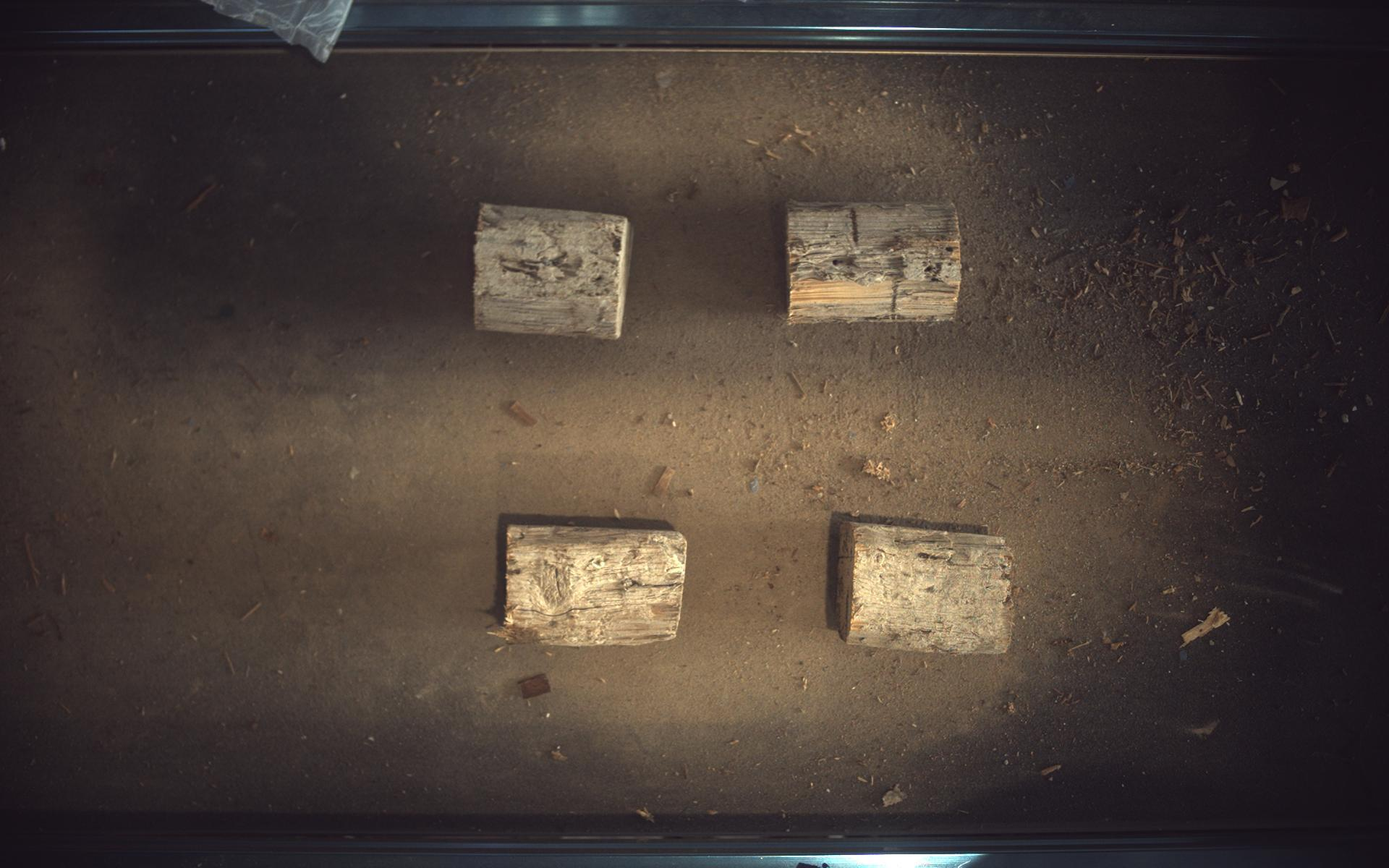wood: (501, 524, 687, 647), (840, 524, 1014, 655), (475, 203, 633, 339), (789, 200, 963, 323)
